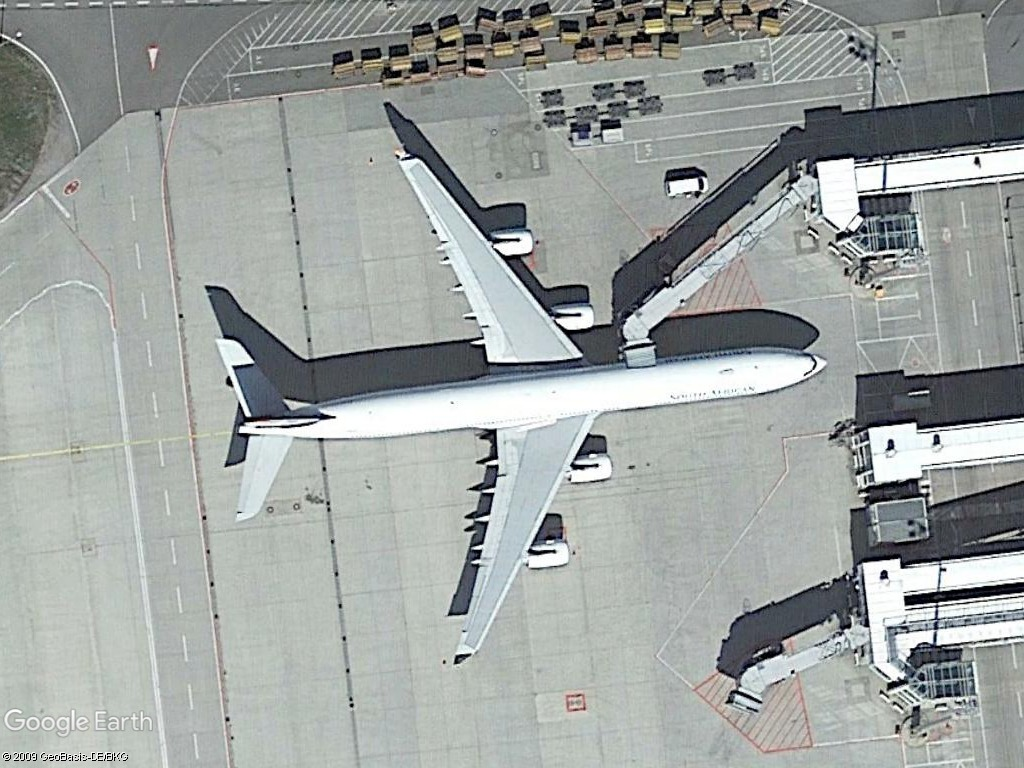airliner: (192, 140, 833, 674)
van: (662, 172, 711, 200)
